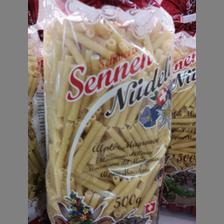Nudeln: (42, 0, 174, 224)
